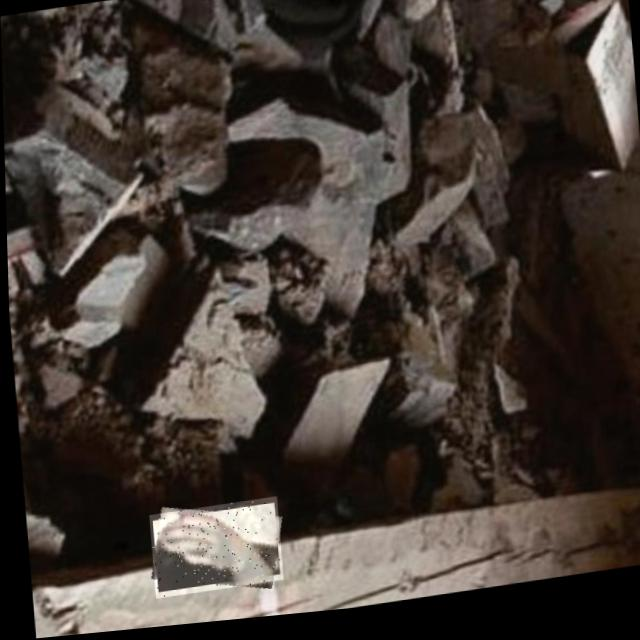Person in Rubble: (145, 501, 279, 602)
